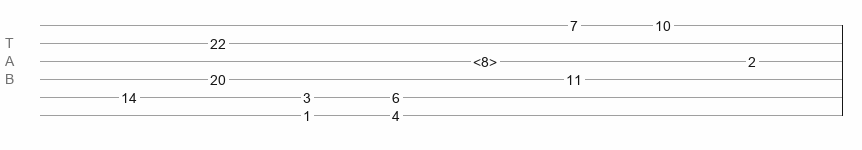1: (303, 108, 311, 118)
10: (655, 18, 671, 28)
11: (566, 72, 582, 82)
14: (121, 90, 137, 100)
2: (748, 54, 756, 64)
20: (210, 72, 226, 82)
22: (210, 36, 226, 46)
3: (303, 90, 311, 100)
4: (392, 108, 400, 118)
6: (392, 90, 400, 100)
7: (570, 18, 578, 28)
harmonic: (473, 54, 497, 64)
